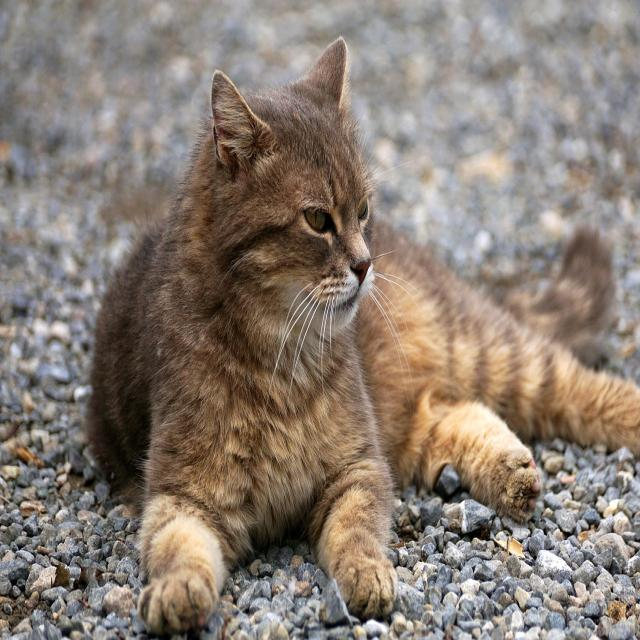cat: (89, 36, 639, 634)
